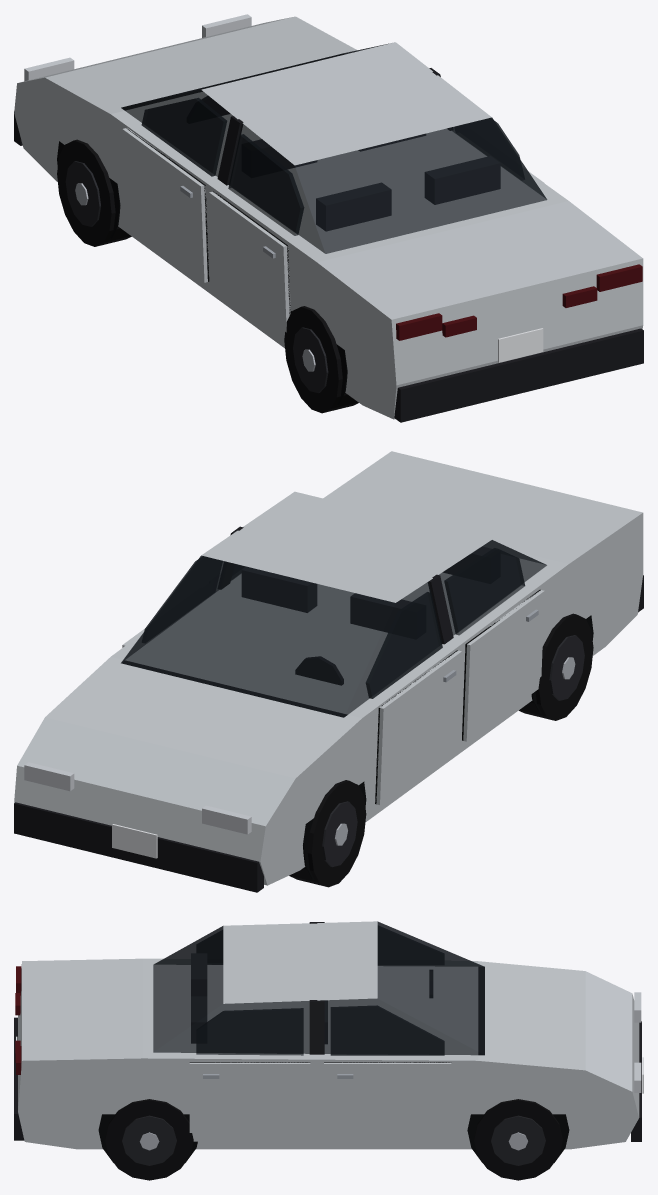
Rendered from civ_sedan.glb.
3 views of the same model, one above another, from view 1: azimuth 30°, elevation 25°; view 2: azimuth 150°, elevation 25°; view 3: azimuth 270°, elevation 25° (orthographic). The views are drawn at different scales.
Visible parts, largest first — view 1: Body, Door_FL, Door_RL, Interior, Wheel_FL, Wheel_RL, Plate_Rear, Taillight_L, Taillight_R, Headlight_L, Headlight_R; view 2: Body, Door_FL, Door_RL, Interior, Wheel_FL, Wheel_RL, Plate_Front, Headlight_R, Headlight_L; view 3: Body, Door_FR, Door_RR, Wheel_FR, Wheel_RR, Interior.
Boxes of the visible parts, x1,y1,x2,y2 form: Body: (14, 16, 643, 422); Door_FL: (122, 97, 227, 282); Door_RL: (209, 134, 304, 340); Interior: (201, 96, 500, 231); Wheel_FL: (57, 139, 131, 246); Wheel_RL: (284, 306, 358, 413); Plate_Rear: (498, 328, 543, 362); Taillight_L: (396, 313, 442, 340); Taillight_R: (596, 264, 642, 291); Headlight_L: (24, 57, 74, 81); Headlight_R: (202, 14, 251, 37); Body: (14, 451, 643, 892); Door_FL: (365, 592, 461, 804); Door_RL: (444, 548, 544, 741); Interior: (242, 546, 491, 685); Wheel_FL: (289, 780, 366, 887); Wheel_RL: (519, 613, 593, 720); Plate_Front: (112, 824, 157, 858); Headlight_R: (24, 762, 74, 791); Headlight_L: (202, 805, 251, 834); Body: (14, 921, 641, 1162); Door_FR: (324, 1005, 451, 1141); Door_RR: (189, 1008, 310, 1141); Wheel_FR: (474, 1099, 562, 1180); Wheel_RR: (105, 1099, 193, 1180); Interior: (191, 953, 432, 1043).
Size of the model in its own units: 1.86 by 1.4 by 4.7.
